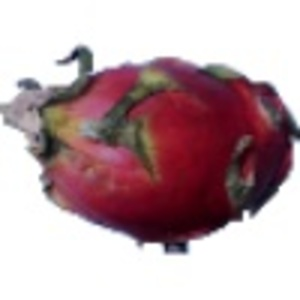pitaia: (7, 46, 300, 256)
